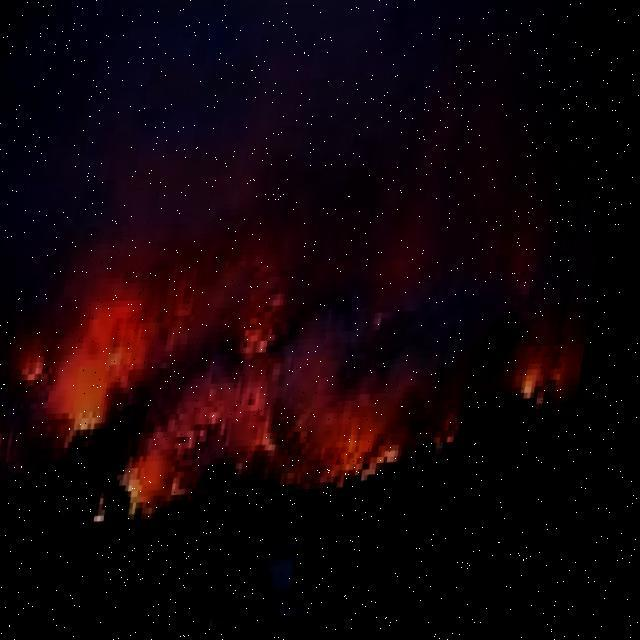Fire: (0, 228, 591, 510)
